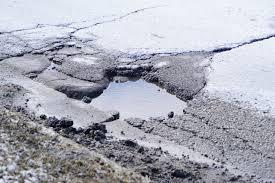alligator-crack: (150, 113, 267, 172), (4, 31, 91, 72)
crack: (63, 6, 167, 39), (212, 32, 275, 59)
pothole: (65, 59, 190, 123)
